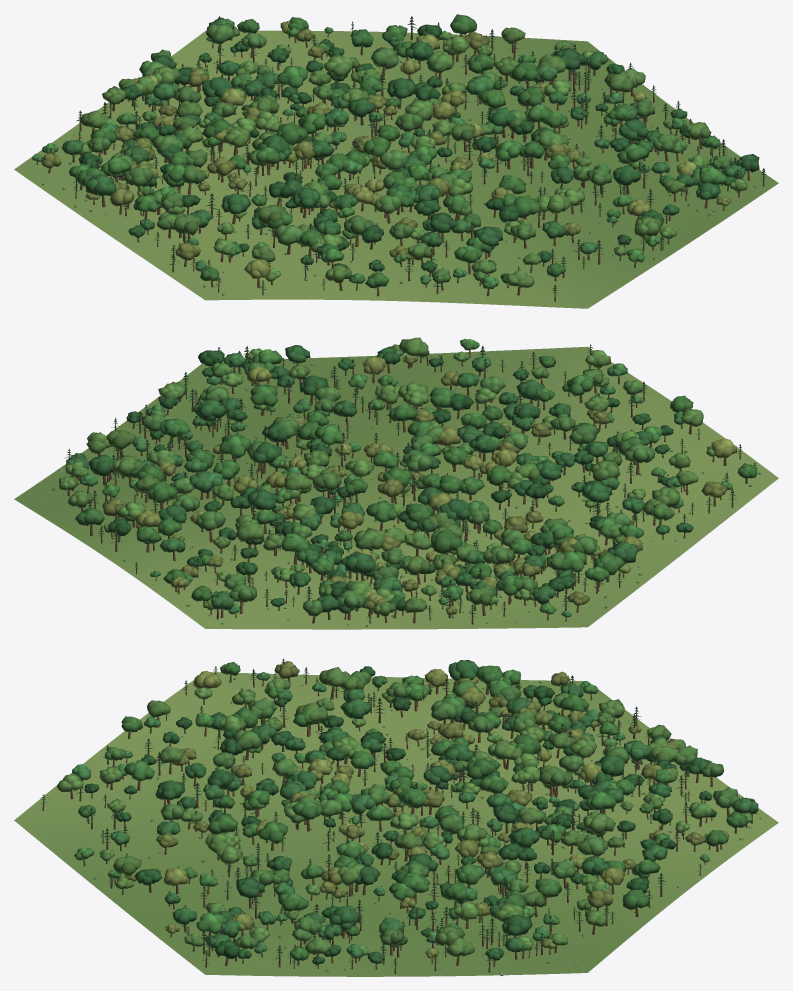
3 renders of one model, top to bottom at view 1: azimuth 30°, elevation 25°; view 2: azimuth 150°, elevation 25°; view 3: azimuth 270°, elevation 25°, orthographic.
Parts seen in each view (by area): view 1: broadleaf_canopy, terrain, trunks, conifer_canopy; view 2: broadleaf_canopy, terrain, trunks, conifer_canopy; view 3: broadleaf_canopy, terrain, trunks, conifer_canopy.
Part boxes in pixels (box(x1,y1,x2,y2)): broadleaf_canopy: box(32, 14, 759, 288); terrain: box(14, 30, 778, 308); trunks: box(36, 17, 764, 301); conifer_canopy: box(49, 16, 766, 293); broadleaf_canopy: box(59, 337, 757, 617); terrain: box(14, 346, 778, 629); trunks: box(67, 345, 755, 624); conifer_canopy: box(64, 344, 758, 617); broadleaf_canopy: box(57, 660, 758, 964); terrain: box(14, 672, 778, 976); trunks: box(42, 659, 752, 973); conifer_canopy: box(39, 658, 758, 966).
Size of the model in its own units: 4330 by 375 by 5000.
